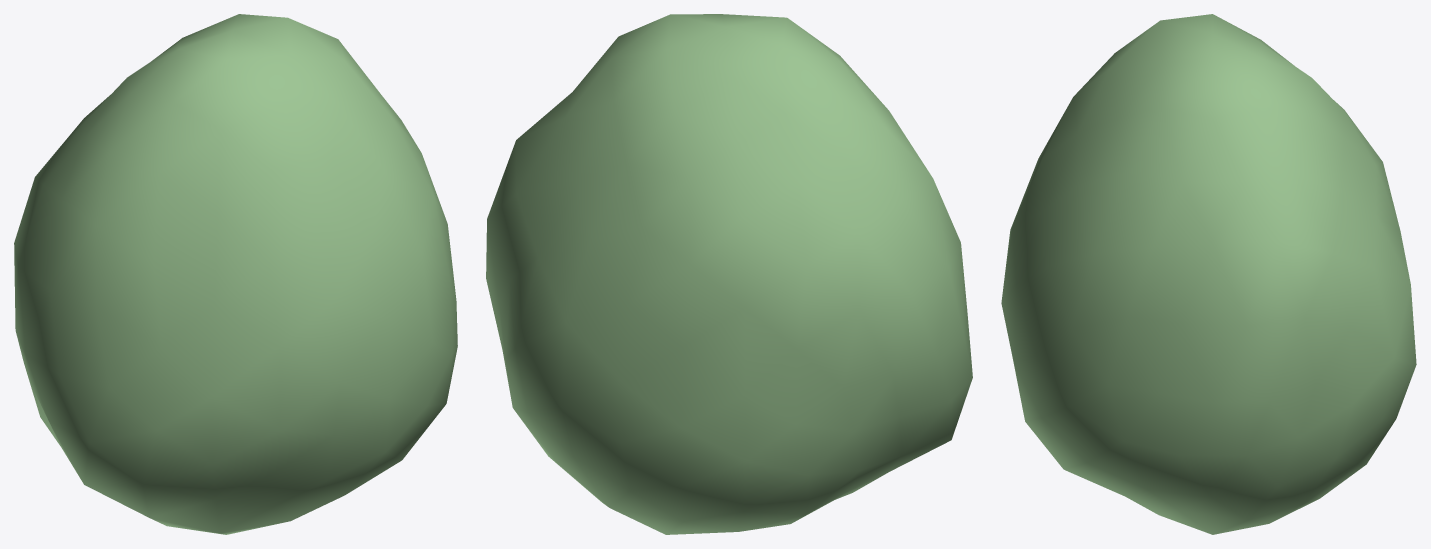
File: tree-broadleaf-d-crown.glb
The picture shows the model from 3 angles, left to right: view 1: azimuth 30°, elevation 25°; view 2: azimuth 150°, elevation 25°; view 3: azimuth 270°, elevation 25°; orthographic projection. The views are drawn at different scales.
Parts seen in each view (by area): view 1: tree-broadleaf-d-crown; view 2: tree-broadleaf-d-crown; view 3: tree-broadleaf-d-crown.
Part boxes in pixels (left/top/right/bottom): tree-broadleaf-d-crown: left=14, top=14, right=457, bottom=534; tree-broadleaf-d-crown: left=486, top=14, right=972, bottom=534; tree-broadleaf-d-crown: left=1001, top=14, right=1416, bottom=534.
Size of the model in its own units: 0.6014 by 0.6571 by 0.53.
